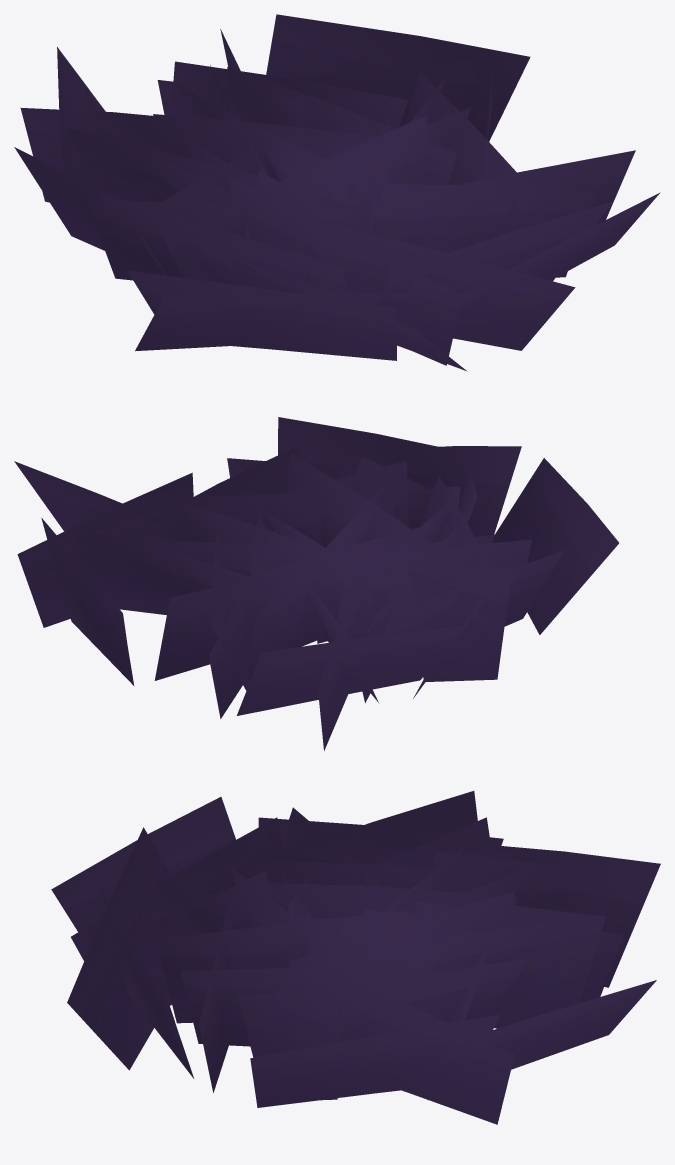
The picture shows the model from 3 angles, top to bottom: view 1: azimuth 30°, elevation 25°; view 2: azimuth 150°, elevation 25°; view 3: azimuth 270°, elevation 25°; orthographic projection. The views are drawn at different scales.
Visible parts, largest first — view 1: SM_FH_Gazania_01_LOD0; view 2: SM_FH_Gazania_01_LOD0; view 3: SM_FH_Gazania_01_LOD0.
Boxes of the visible parts, x1,y1,x2,y2 form: SM_FH_Gazania_01_LOD0: (14,14,660,371); SM_FH_Gazania_01_LOD0: (14,417,618,750); SM_FH_Gazania_01_LOD0: (51,791,660,1124).
Bounding box in the file's own units: 1.12 × 0.3166 × 1.12.
